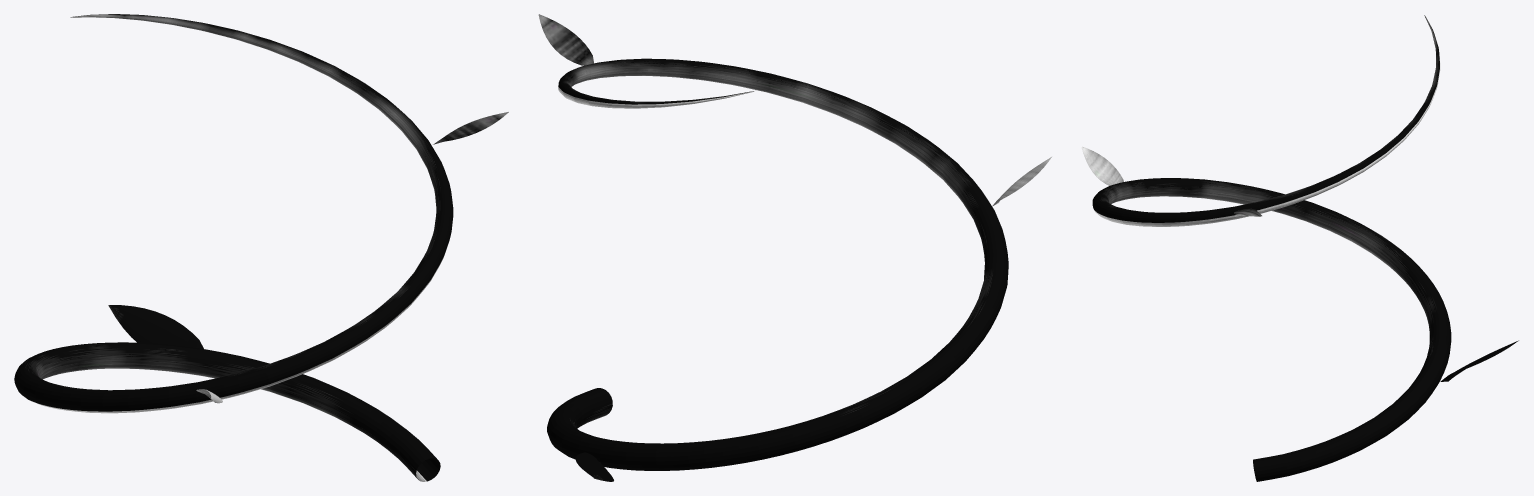
3 renders of one model, left to right at view 1: azimuth 30°, elevation 25°; view 2: azimuth 150°, elevation 25°; view 3: azimuth 270°, elevation 25°, orthographic. The views are drawn at different scales.
Bounding box in the file's own units: 2.09 × 2.03 × 2.2.
Materials: 1 (1 with a texture image).
